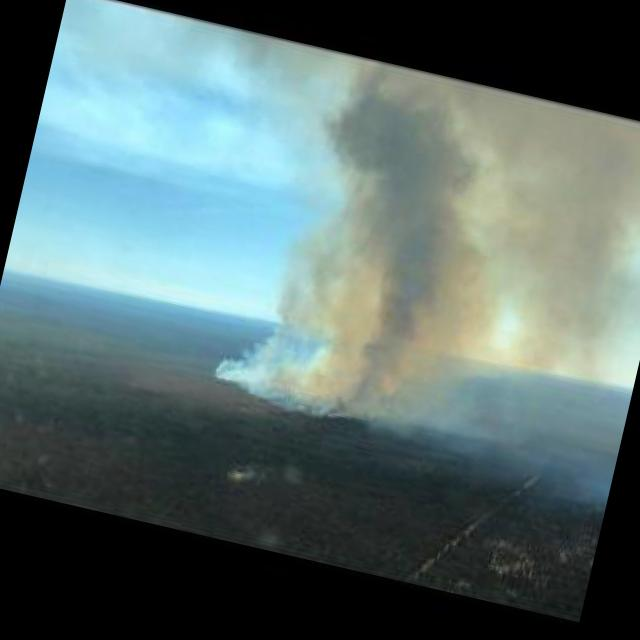smoke: (202, 41, 640, 495)
